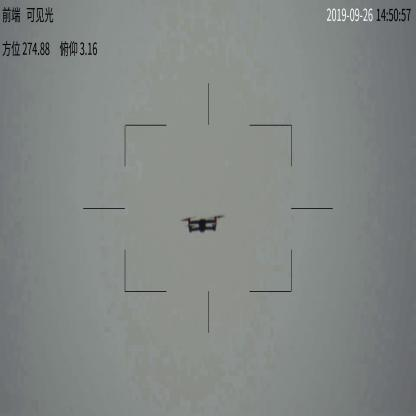uav: (181, 213, 224, 239)
